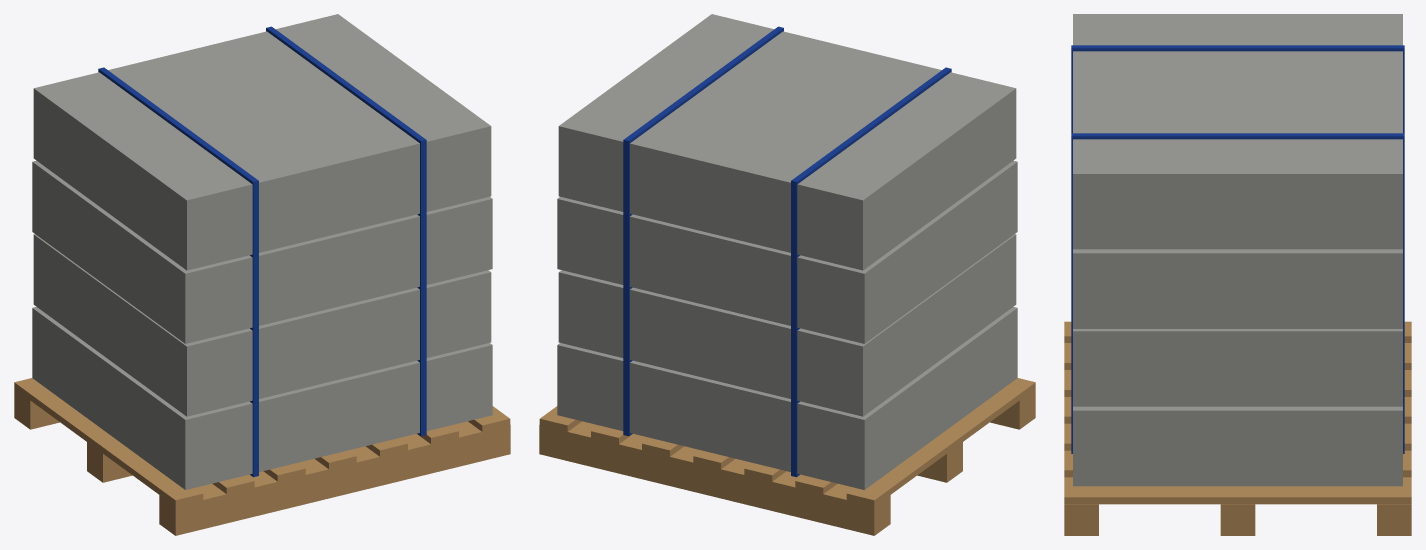
Rendered from plant.store.blocks.glb.
The picture shows the model from 3 angles, left to right: view 1: azimuth 30°, elevation 25°; view 2: azimuth 150°, elevation 25°; view 3: azimuth 270°, elevation 25°; orthographic projection. The views are drawn at different scales.
Visible parts, largest first — view 1: main__blockwork, main__softwood, main__plastic_blue; view 2: main__blockwork, main__softwood, main__plastic_blue; view 3: main__blockwork, main__softwood, main__plastic_blue.
Boxes of the visible parts, x1,y1,x2,y2 form: main__blockwork: [32, 14, 492, 489]; main__softwood: [14, 378, 510, 535]; main__plastic_blue: [98, 26, 426, 477]; main__blockwork: [557, 14, 1017, 489]; main__softwood: [539, 378, 1035, 535]; main__plastic_blue: [623, 26, 951, 477]; main__blockwork: [1073, 14, 1402, 486]; main__softwood: [1064, 321, 1411, 535]; main__plastic_blue: [1071, 45, 1404, 453].
Size of the model in its own units: 1.2 by 1.13 by 1.
